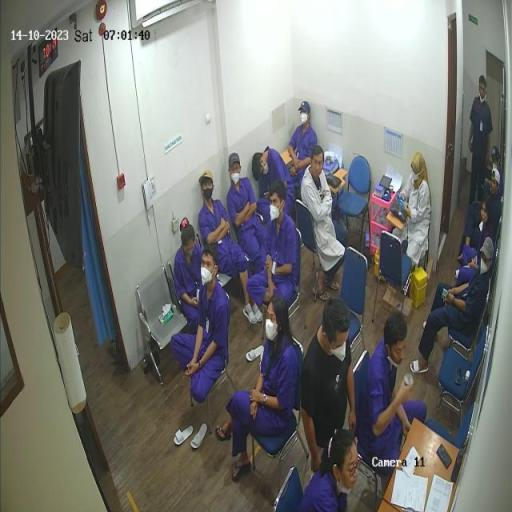person: (217, 296, 299, 481), (411, 236, 494, 374), (360, 312, 428, 473), (199, 173, 266, 324), (303, 302, 359, 479), (172, 245, 230, 407), (301, 146, 347, 299), (248, 182, 301, 311), (227, 153, 270, 273), (299, 430, 359, 512), (397, 152, 431, 277), (176, 219, 212, 333), (458, 194, 495, 289), (468, 75, 494, 210), (288, 102, 318, 205), (254, 147, 295, 221), (467, 168, 501, 243)
